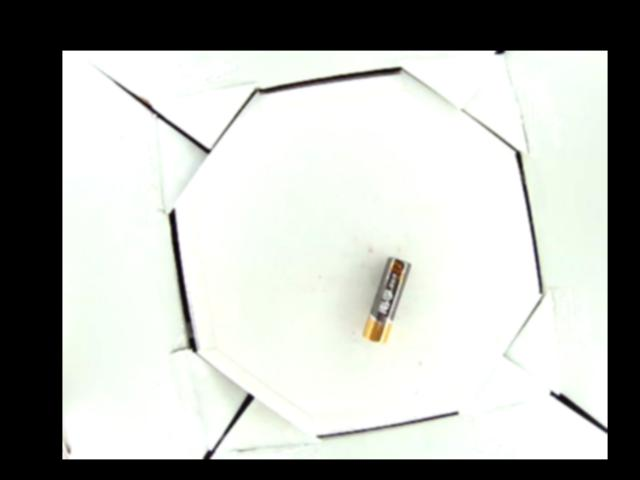Battery: (359, 256, 413, 341)
